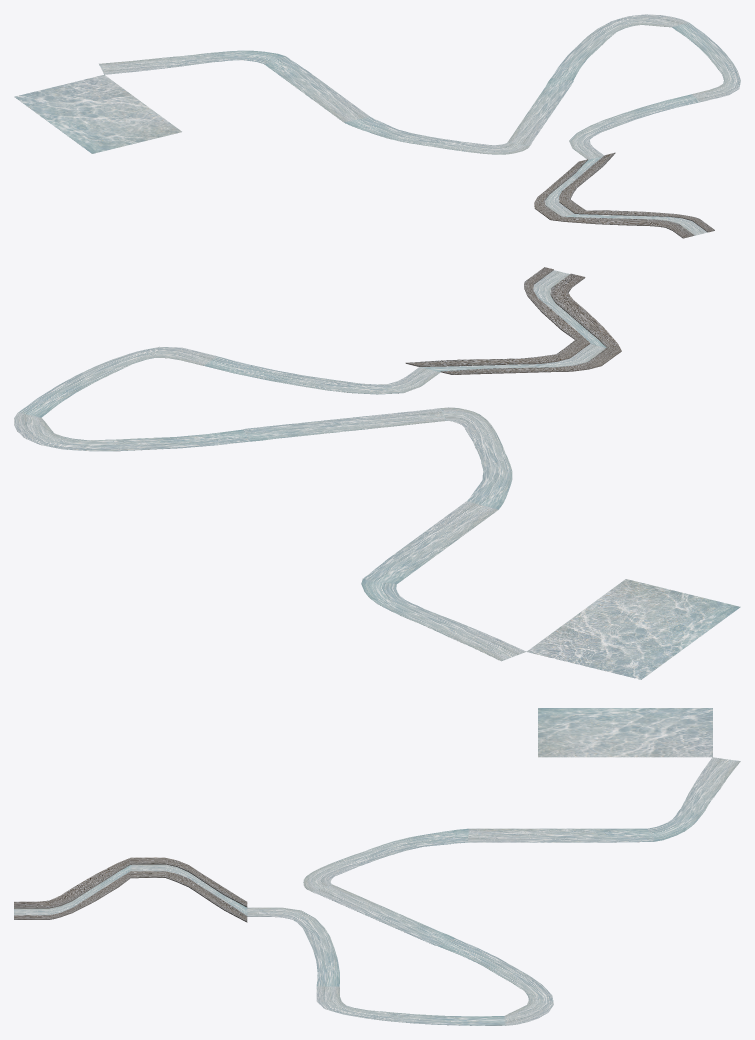
Rendered from river_3.fbx.
3 views of the same model, one above another, from view 1: azimuth 30°, elevation 25°; view 2: azimuth 150°, elevation 25°; view 3: azimuth 270°, elevation 25° (orthographic). The views are drawn at different scales.
Parts seen in each view (by area): view 1: Box007, Box013, Box005, Box012, Box014, Box003, Box004, Box009, Box011, Box008, Box001, Box002; view 2: Box007, Box013, Box005, Box014, Box012, Box003, Box004, Box011, Box009, Box008, Box001, Box002; view 3: Box007, Box013, Box005, Box012, Box014, Box004, Box003, Box009, Box011, Box008, Box001, Box002.
Boxes of the visible parts, left/top/right/bottom form: Box007: left=14, top=74, right=181, bottom=153; Box013: left=264, top=56, right=369, bottom=122; Box005: left=551, top=14, right=688, bottom=80; Box012: left=344, top=117, right=529, bottom=154; Box014: left=99, top=50, right=285, bottom=74; Box003: left=569, top=94, right=701, bottom=159; Box004: left=672, top=23, right=740, bottom=101; Box009: left=534, top=159, right=694, bottom=238; Box011: left=507, top=77, right=573, bottom=145; Box008: left=559, top=152, right=714, bottom=232; Box001: left=565, top=214, right=707, bottom=235; Box002: left=545, top=156, right=602, bottom=216; Box007: left=526, top=579, right=740, bottom=679; Box013: left=363, top=501, right=498, bottom=583; Box005: left=14, top=412, right=249, bottom=451; Box014: left=361, top=579, right=526, bottom=661; Box012: left=440, top=407, right=512, bottom=509; Box003: left=204, top=356, right=440, bottom=394; Box004: left=18, top=346, right=216, bottom=417; Box011: left=243, top=408, right=446, bottom=441; Box009: left=440, top=273, right=621, bottom=374; Box008: left=405, top=267, right=590, bottom=366; Box001: left=533, top=270, right=606, bottom=347; Box002: left=420, top=344, right=605, bottom=371; Box007: left=538, top=708, right=712, bottom=757; Box013: left=468, top=828, right=653, bottom=842; Box005: left=437, top=938, right=553, bottom=1025; Box012: left=303, top=828, right=469, bottom=891; Box014: left=648, top=757, right=740, bottom=841; Box004: left=316, top=986, right=504, bottom=1025; Box003: left=247, top=907, right=339, bottom=986; Box009: left=14, top=857, right=247, bottom=908; Box011: left=312, top=884, right=455, bottom=945; Box008: left=14, top=871, right=247, bottom=922; Box001: left=14, top=865, right=130, bottom=915; Box002: left=130, top=864, right=246, bottom=915.
Bounding box in the file's own units: 64477 × 80 × 62330.
Materials: 2 (2 with a texture image).
